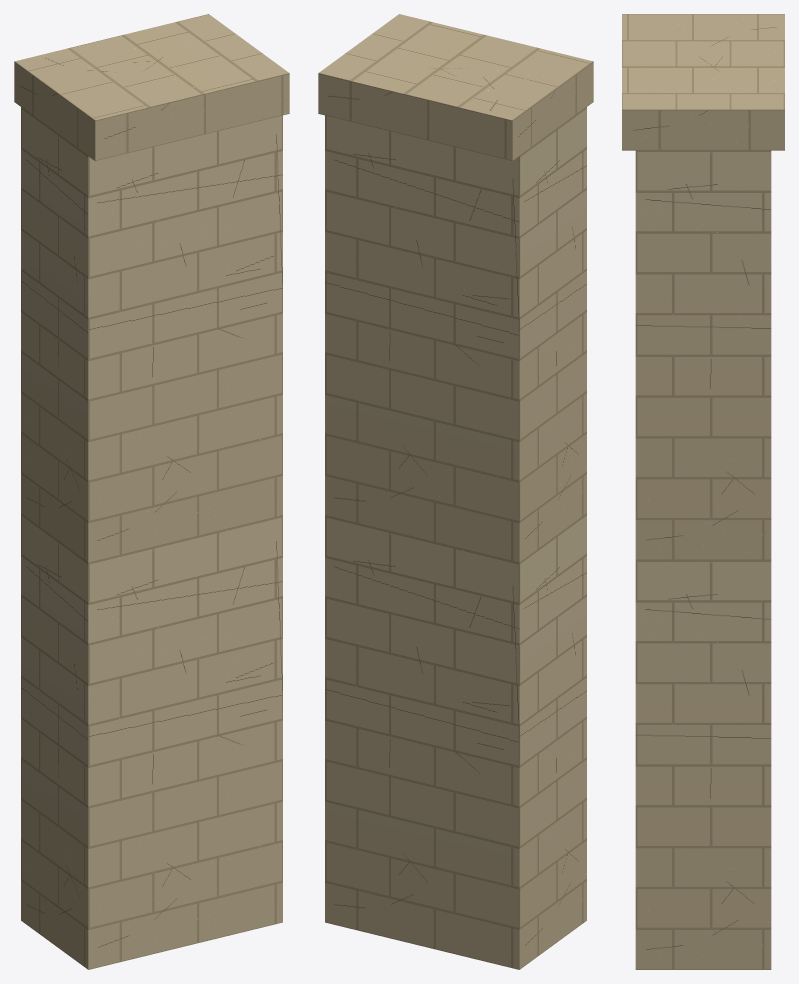
File: wall_half_0_5m.obj
3 renders of one model, left to right at view 1: azimuth 30°, elevation 25°; view 2: azimuth 150°, elevation 25°; view 3: azimuth 270°, elevation 25°, orthographic.
Visible parts, largest first — view 1: wall_half_0_5m; view 2: wall_half_0_5m; view 3: wall_half_0_5m.
Boxes of the visible parts, box(x1,y1,x2,y2) form: wall_half_0_5m: box(14, 14, 289, 969); wall_half_0_5m: box(318, 14, 593, 969); wall_half_0_5m: box(622, 14, 784, 969).
Size of the model in its own units: 0.5 by 2.1 by 0.36.
1 material, 1 textured.
